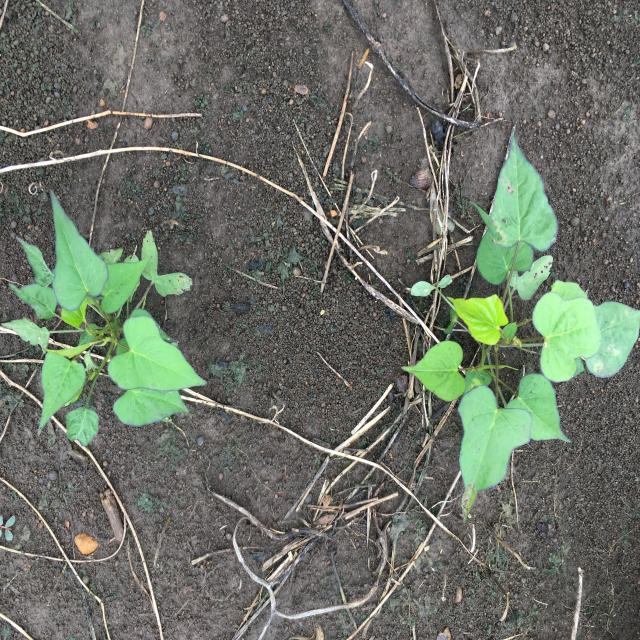MorningGlory: (402, 125, 640, 524), (2, 189, 207, 447)
